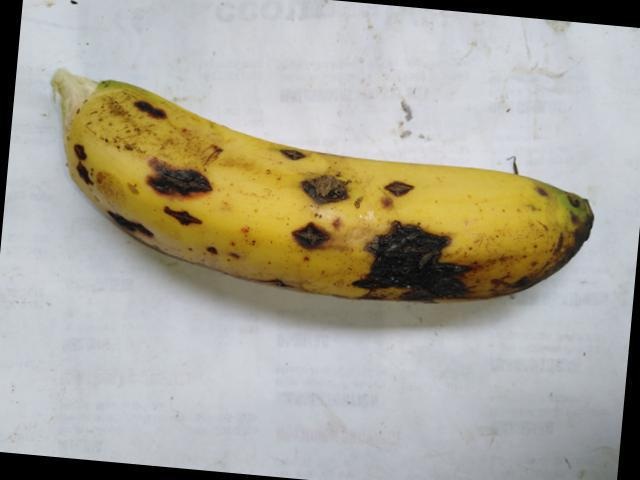rotten: (357, 218, 480, 336), (145, 153, 220, 255), (277, 143, 353, 217), (368, 158, 428, 222), (125, 90, 193, 139), (94, 207, 149, 245), (288, 208, 327, 261)
